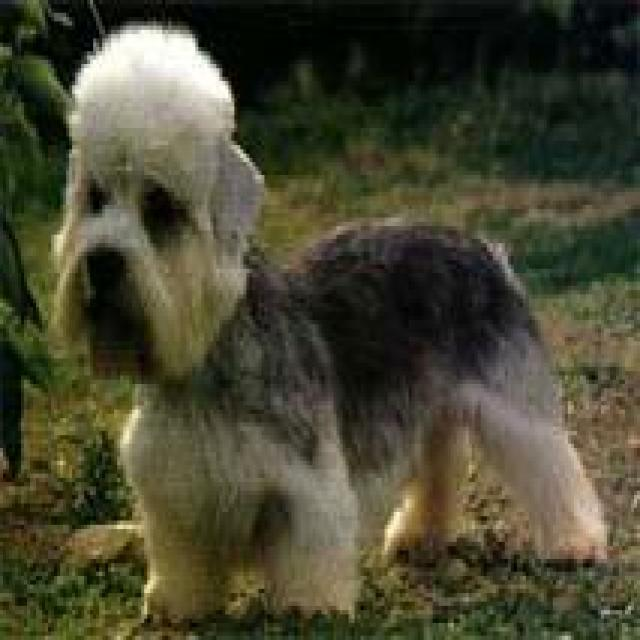dandie_dinmont: (42, 21, 613, 619)
